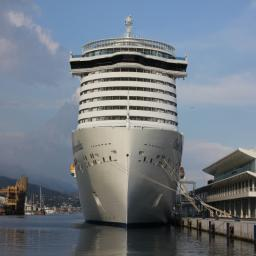cruises: (68, 15, 191, 231)
